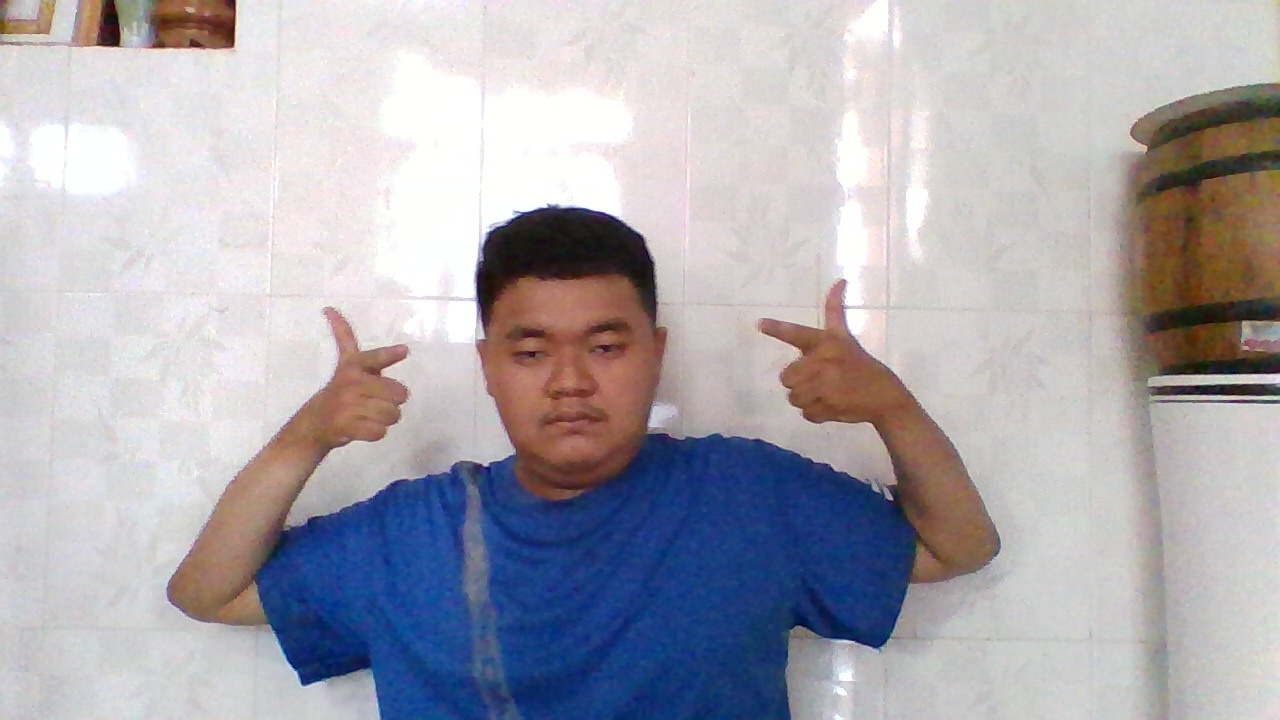G: (743, 268, 906, 431), (291, 300, 418, 449)
